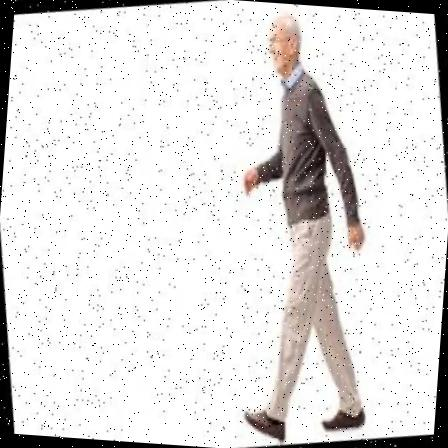silver: (189, 2, 407, 446)
